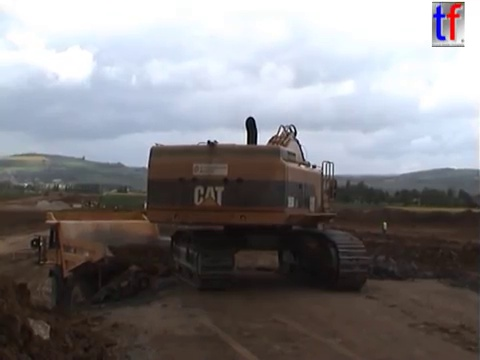excavator: (140, 113, 374, 294), (80, 198, 104, 213)
truck: (28, 208, 218, 310), (42, 188, 51, 197), (57, 190, 64, 198)
worker: (379, 217, 391, 238)
